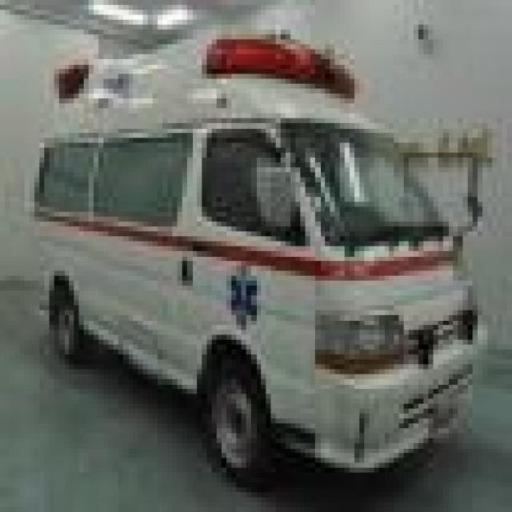Police car: (18, 0, 512, 512)
